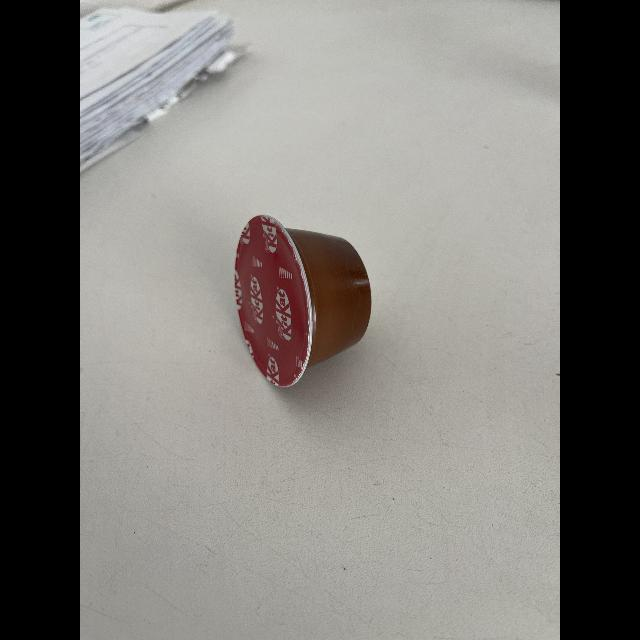intact_capsule: (231, 212, 381, 394)
